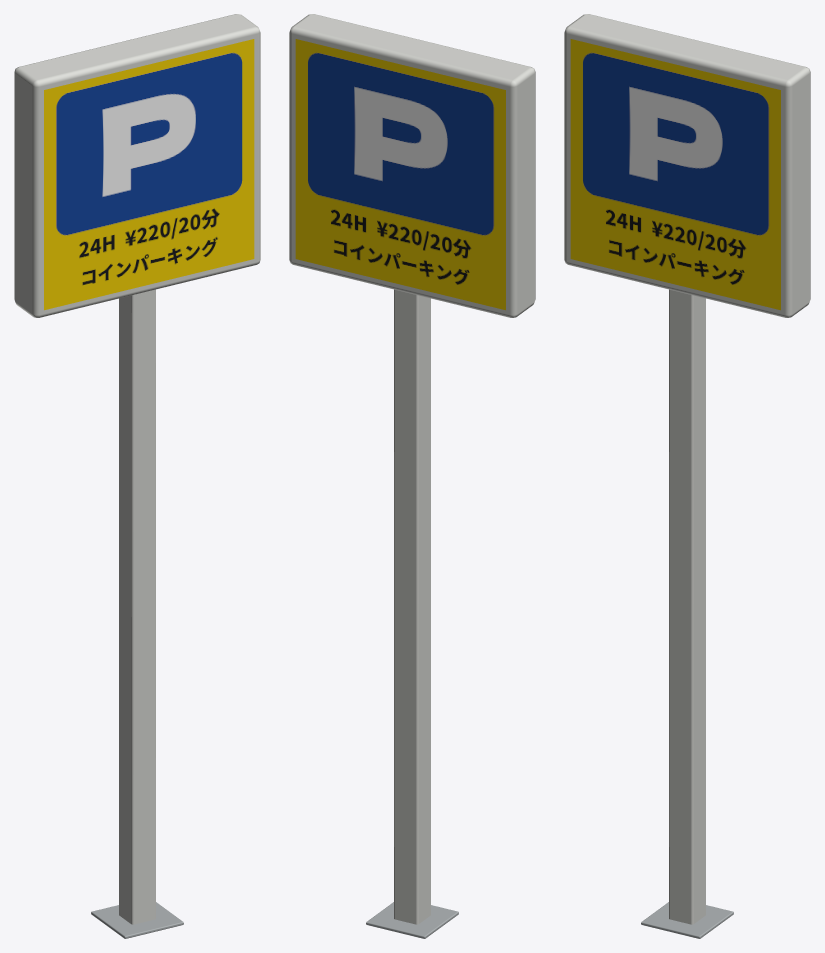
File: coin_parking_sign.fbx
The picture shows the model from 3 angles, left to right: view 1: azimuth 30°, elevation 25°; view 2: azimuth 150°, elevation 25°; view 3: azimuth 330°, elevation 25°; orthographic projection.
Visible parts, largest first — view 1: coin_parking_sign; view 2: coin_parking_sign; view 3: coin_parking_sign.
Boxes of the visible parts, x1=… form: coin_parking_sign: x1=14, y1=14, x2=260, y2=938; coin_parking_sign: x1=289, y1=14, x2=535, y2=938; coin_parking_sign: x1=564, y1=14, x2=810, y2=938.
Size of the model in its own units: 0.92 by 3.37 by 0.24.
Materials: 3 (1 with a texture image).
